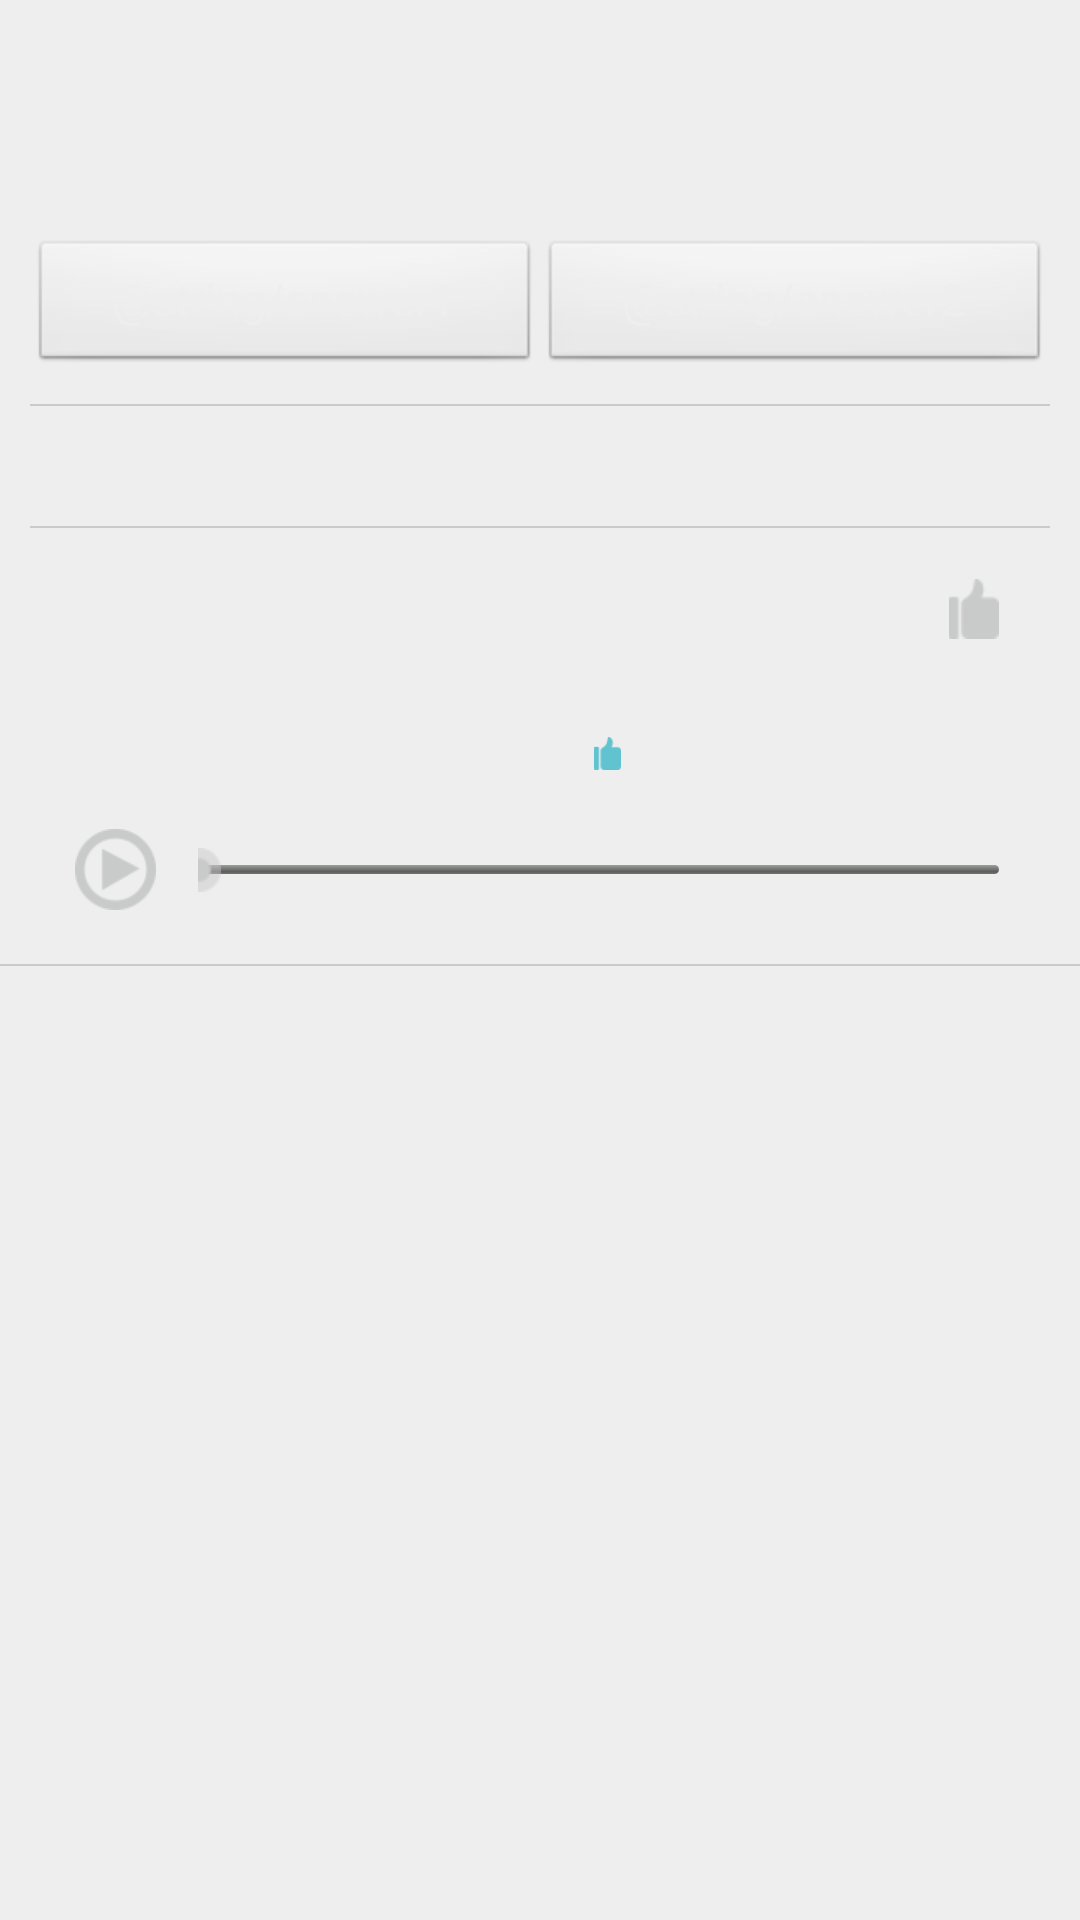

Screen size 1080 x 1920. Icon name, then its box in pixels as [x1, y1, x2, y2]:
praise: [949, 579, 999, 639], [594, 737, 621, 770]
pro play: [75, 829, 156, 910]
